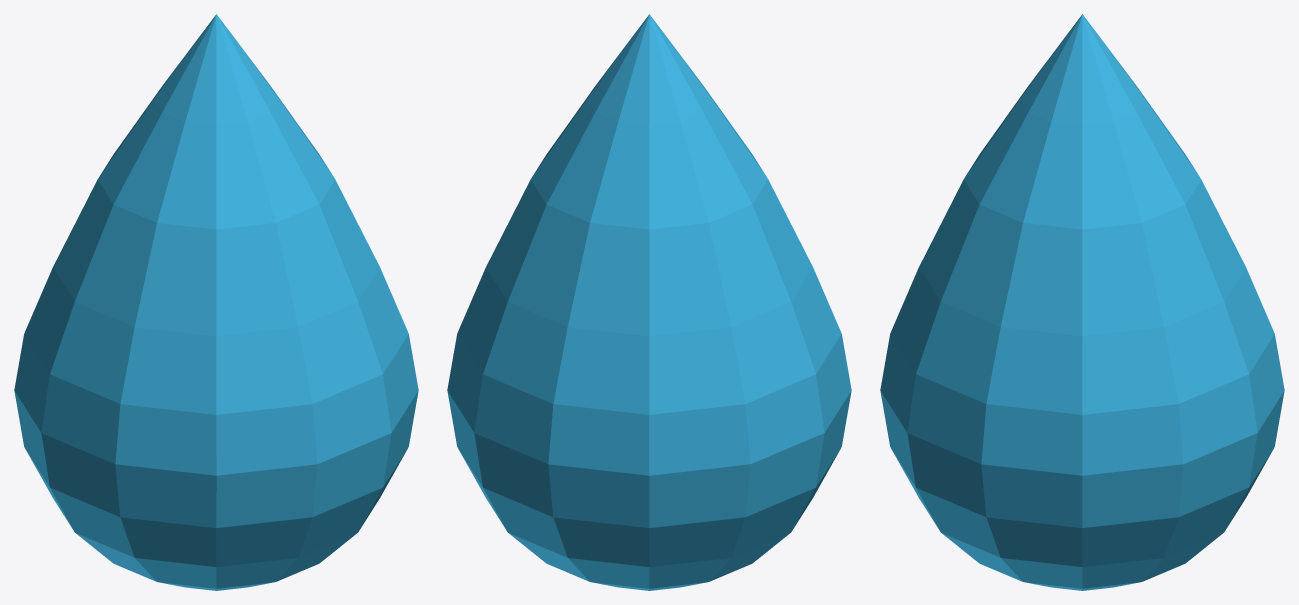
The model's file is WaterDrop.fbx.
3 renders of one model, left to right at view 1: azimuth 30°, elevation 25°; view 2: azimuth 150°, elevation 25°; view 3: azimuth 270°, elevation 25°, orthographic.
Parts seen in each view (by area): view 1: Water_Drop; view 2: Water_Drop; view 3: Water_Drop.
Boxes of the visible parts, x1,y1,x2,y2 form: Water_Drop: [14, 14, 418, 590]; Water_Drop: [447, 14, 851, 590]; Water_Drop: [880, 14, 1284, 590].
Size of the model in its own units: 42 by 64.12 by 42.
